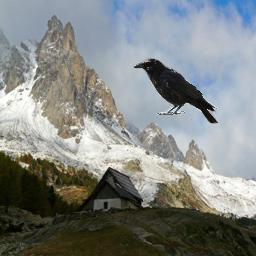Crow: (133, 58, 218, 124)
